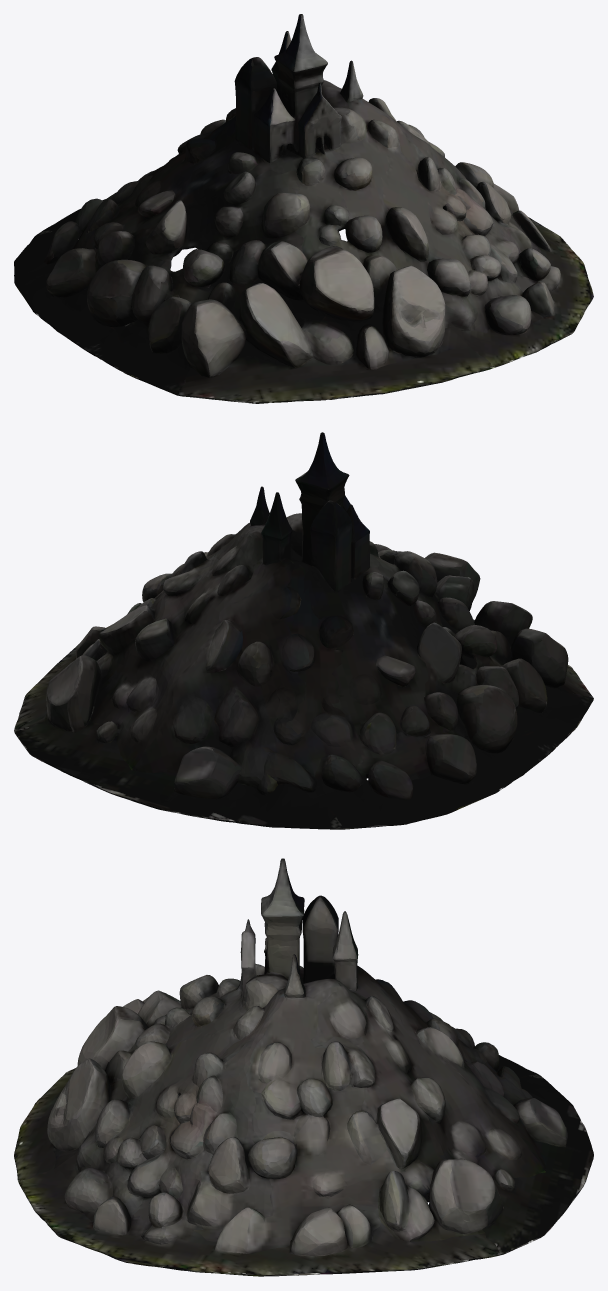
The model's file is blacksmith_coal_pile_01.glb.
3 renders of one model, top to bottom at view 1: azimuth 30°, elevation 25°; view 2: azimuth 150°, elevation 25°; view 3: azimuth 270°, elevation 25°, orthographic. The views are drawn at different scales.
Visible parts, largest first — view 1: geometry_0; view 2: geometry_0; view 3: geometry_0.
Boxes of the visible parts, x1=… form: geometry_0: x1=14, y1=14, x2=593, y2=403; geometry_0: x1=14, y1=432, x2=593, y2=829; geometry_0: x1=14, y1=858, x2=593, y2=1276.
Bounding box in the file's own units: 0.9867 × 0.5648 × 1.
1 material, 1 textured.
